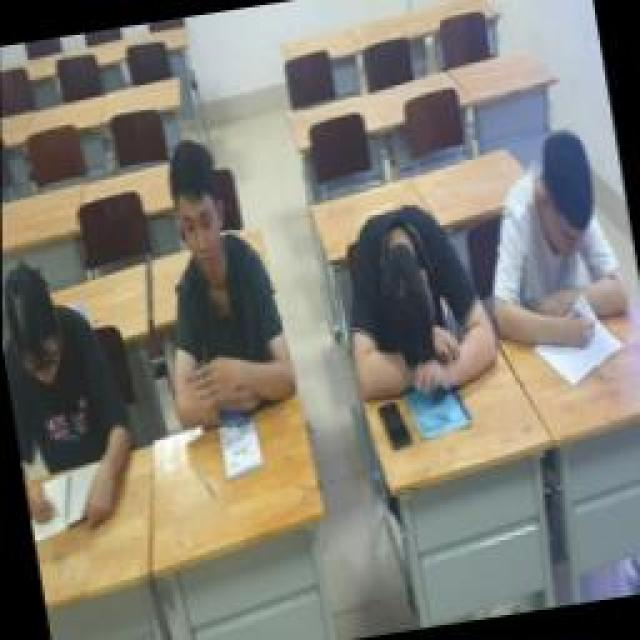sleep: (330, 195, 502, 410)
study: (125, 132, 297, 428), (460, 120, 638, 370), (2, 252, 140, 538)
